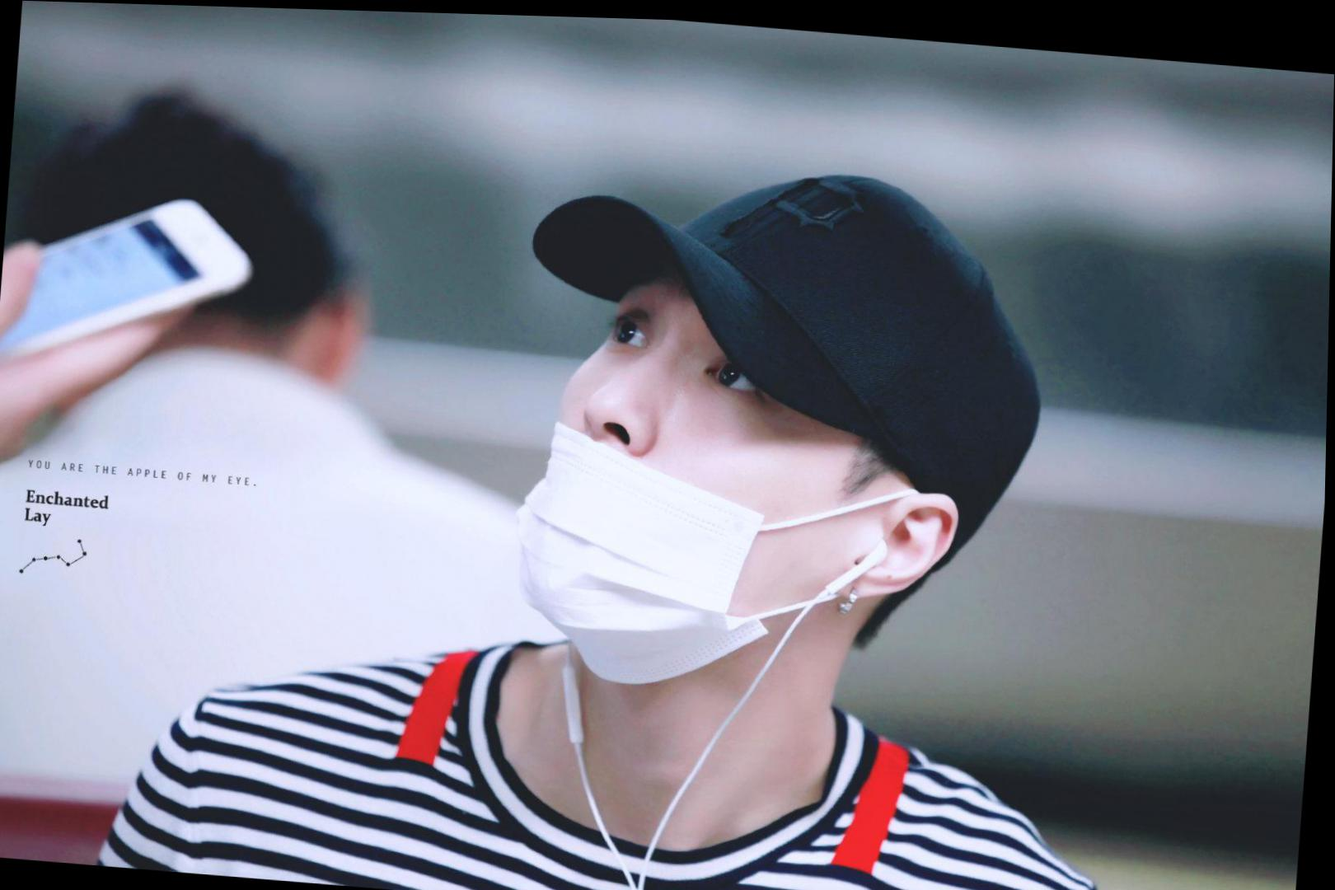WRONG: (509, 256, 805, 649)
